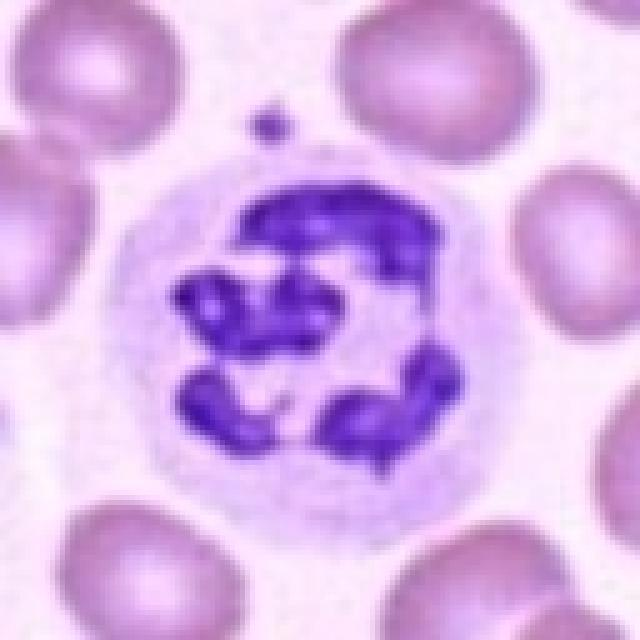neutro: (118, 139, 534, 512)
